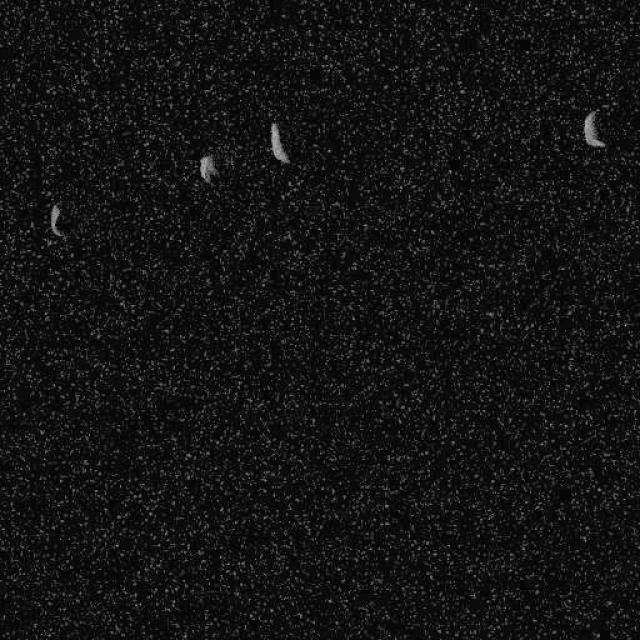D2: (268, 120, 290, 164), (582, 109, 606, 148), (198, 154, 218, 184), (49, 202, 65, 238)
